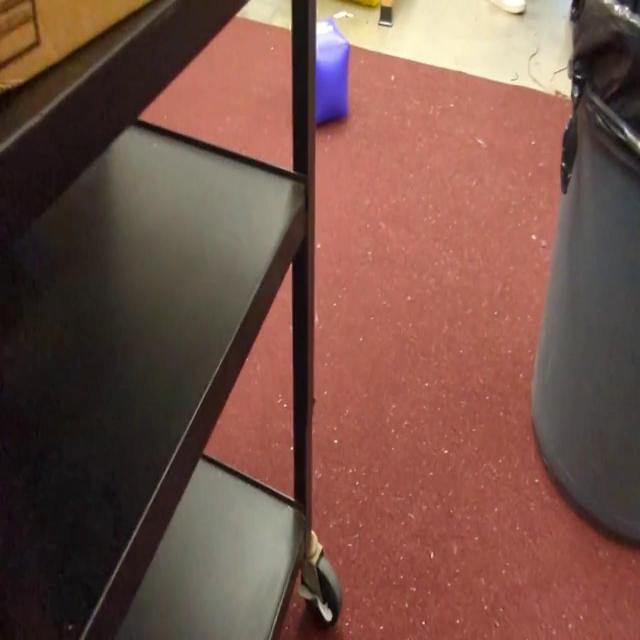frc_cube: (315, 19, 351, 130)
